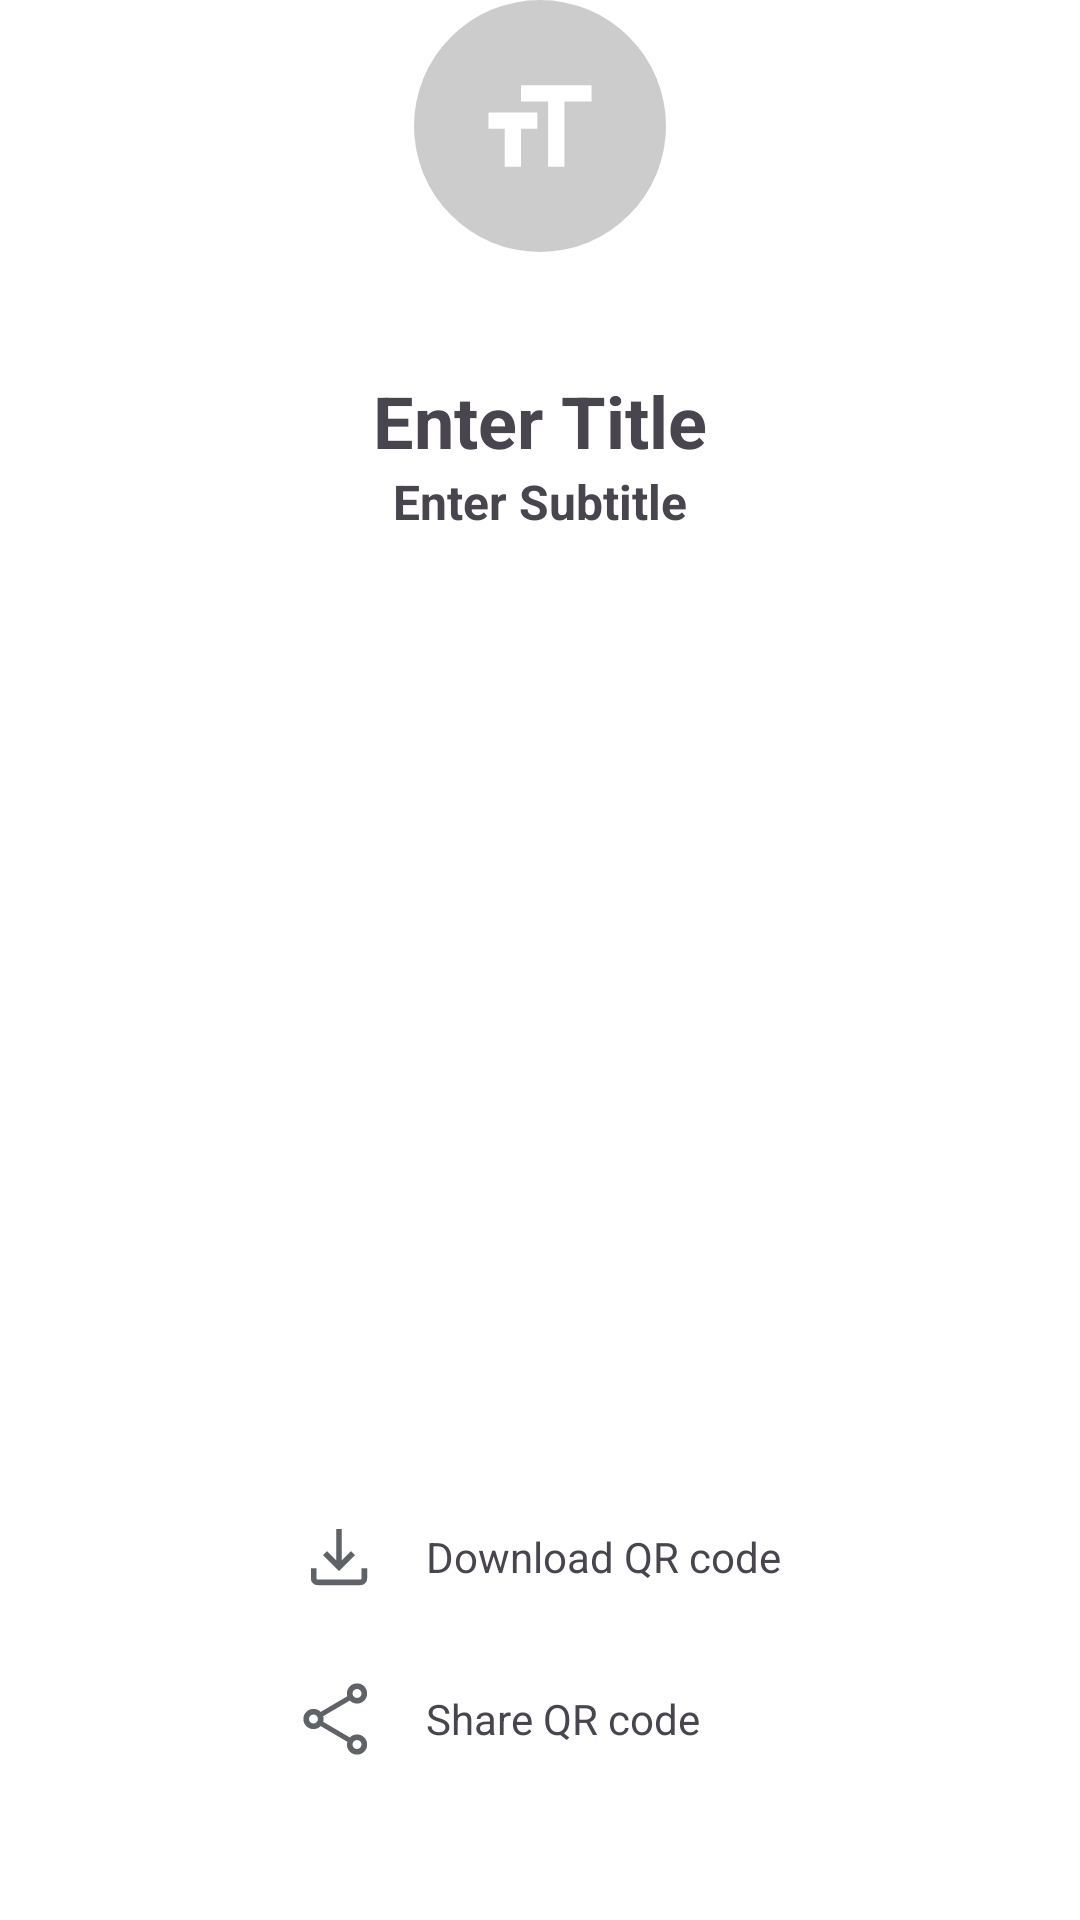

Point at icon controls on the screen. Image size 1080w x 1920h, points as (x=x, y=y).
text: (x=540, y=126)
